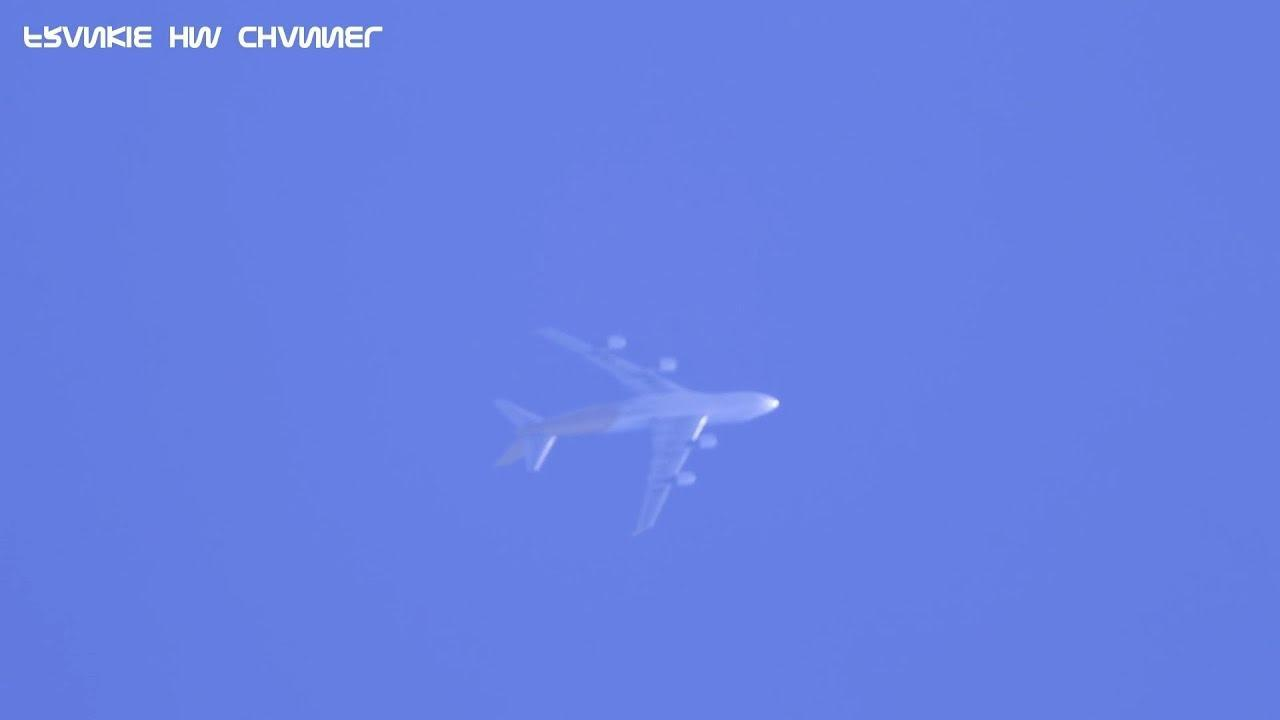Plane: (431, 298, 859, 529)
